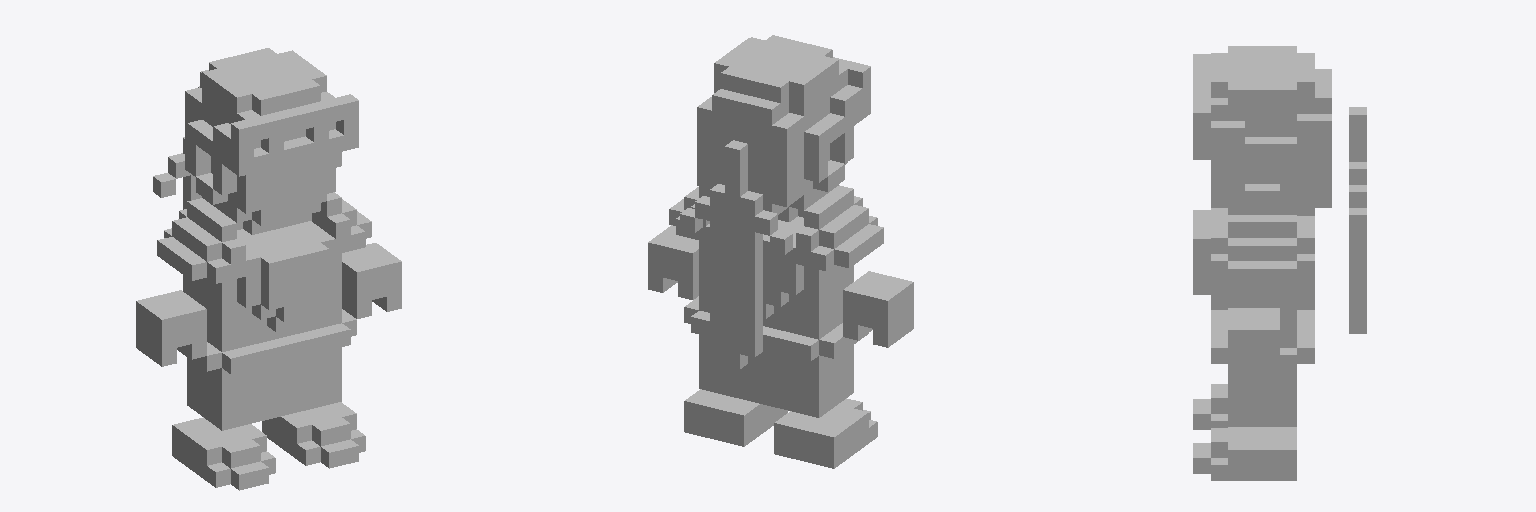
The model's file is Knight.obj.
The picture shows the model from 3 angles: view 1: azimuth 30°, elevation 25°; view 2: azimuth 150°, elevation 25°; view 3: azimuth 270°, elevation 25°; orthographic projection.
Visible parts, largest first — view 1: Knight; view 2: Knight; view 3: Knight.
Part boxes in pixels (left/top/right/bottom): Knight: left=136, top=48, right=401, bottom=490; Knight: left=648, top=35, right=913, bottom=468; Knight: left=1193, top=46, right=1366, bottom=480.
Size of the model in its own units: 16 by 24 by 10.